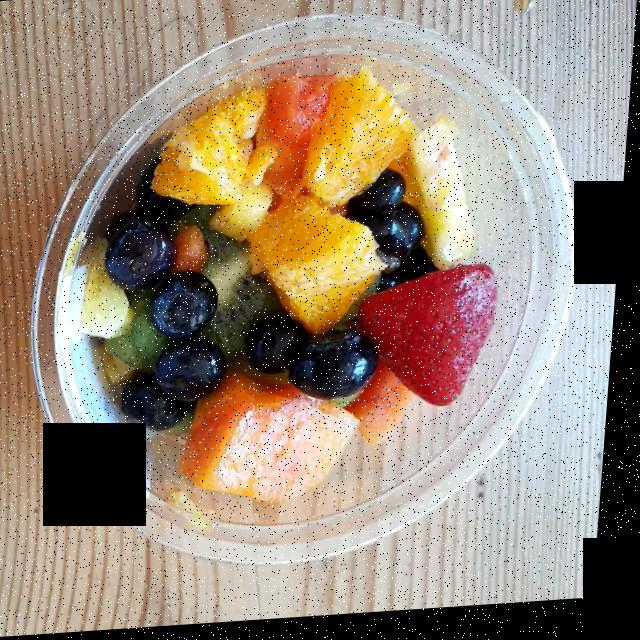fruit-salad: (84, 80, 496, 504)
